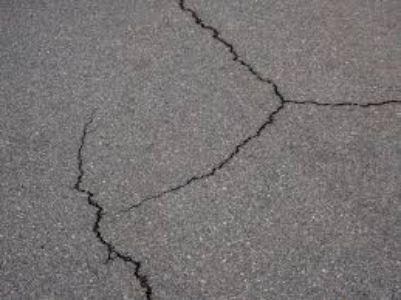crack: (120, 104, 283, 212), (72, 103, 152, 300), (173, 0, 288, 103), (282, 97, 401, 108)
